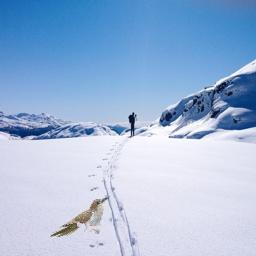Cuckoo: (49, 197, 109, 237)
